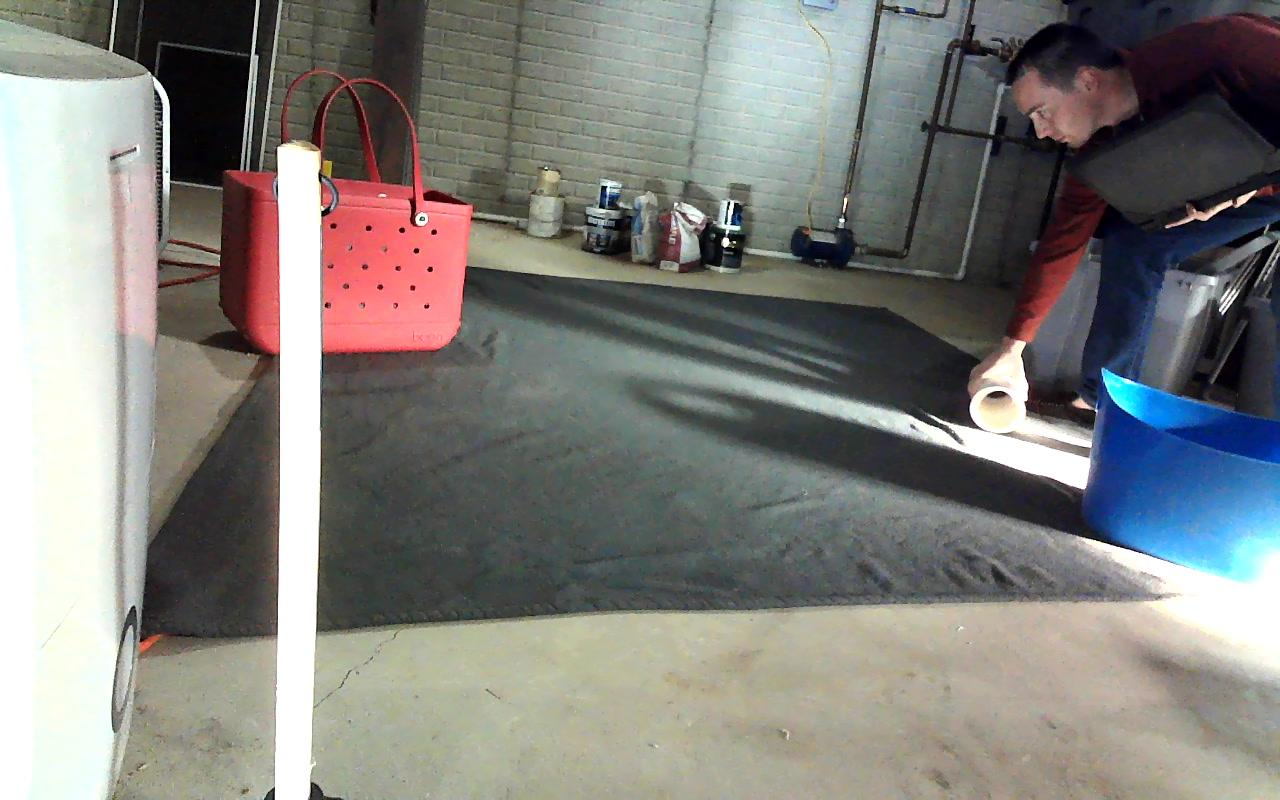coral: (969, 357, 1027, 432)
